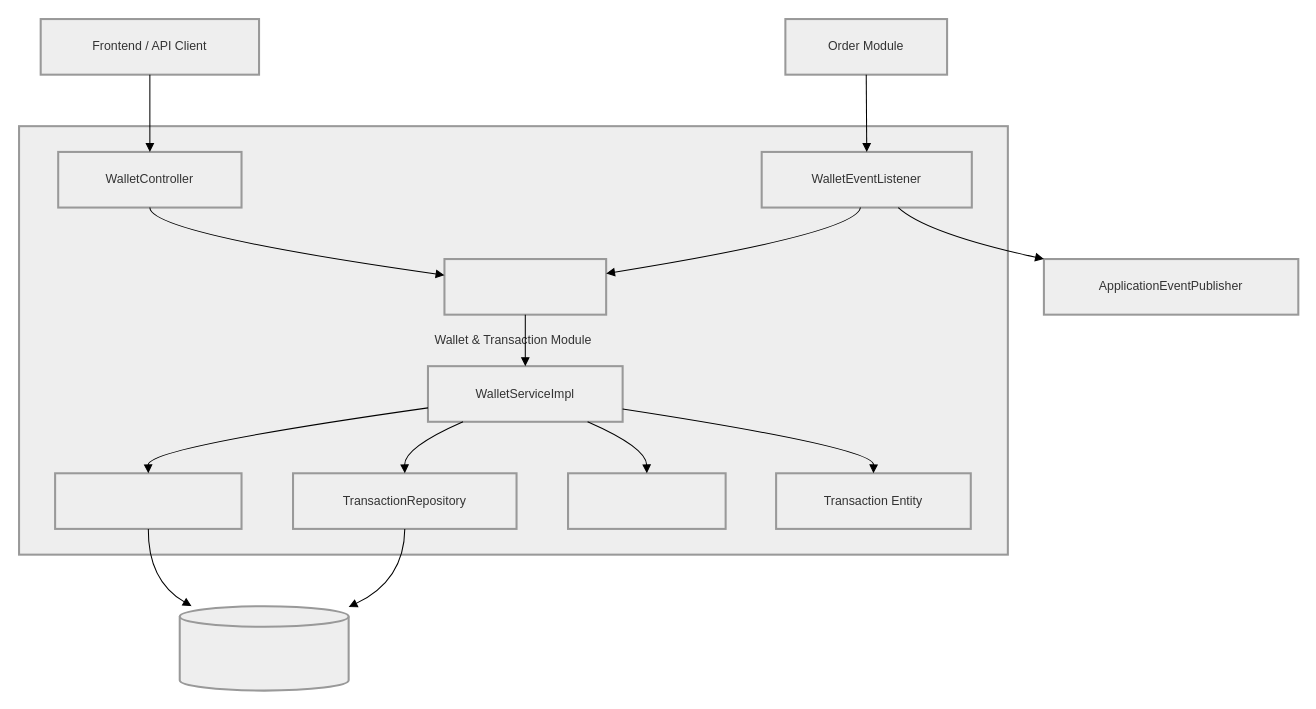
This 1316x709 diagram has some shape labels left out. The centre of each missing label's shape, as x and y in pixels:
PostgreSQL Database: pixel 263 648
Wallet Entity: pixel 646 500
WalletRepository: pixel 148 500
WalletService: pixel 525 286
